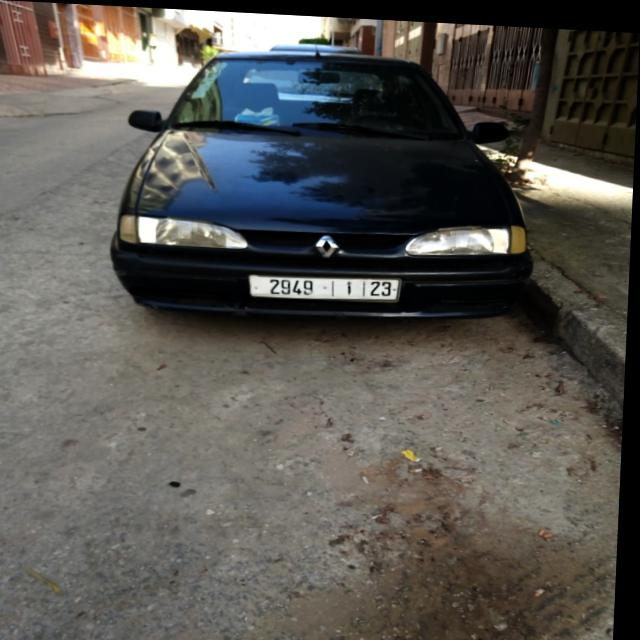License-Plate: (251, 272, 403, 298)
